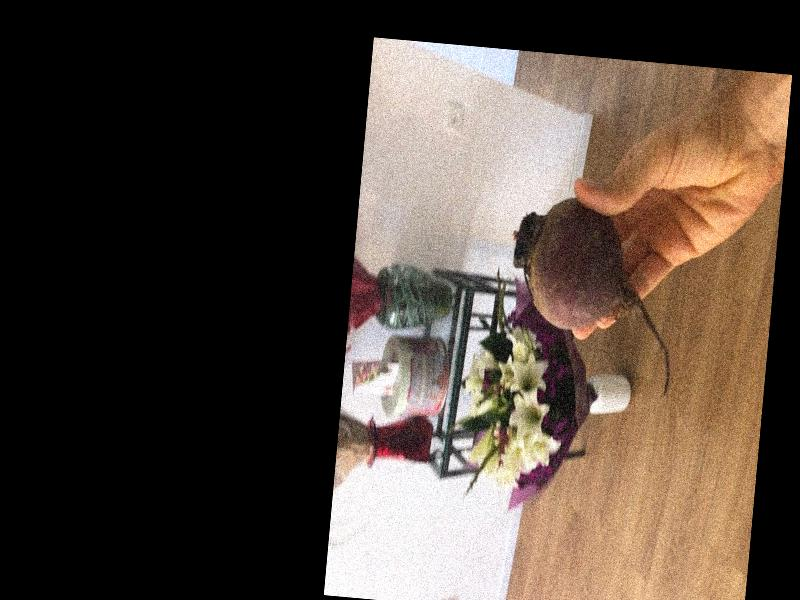Beet: (501, 193, 684, 400)
